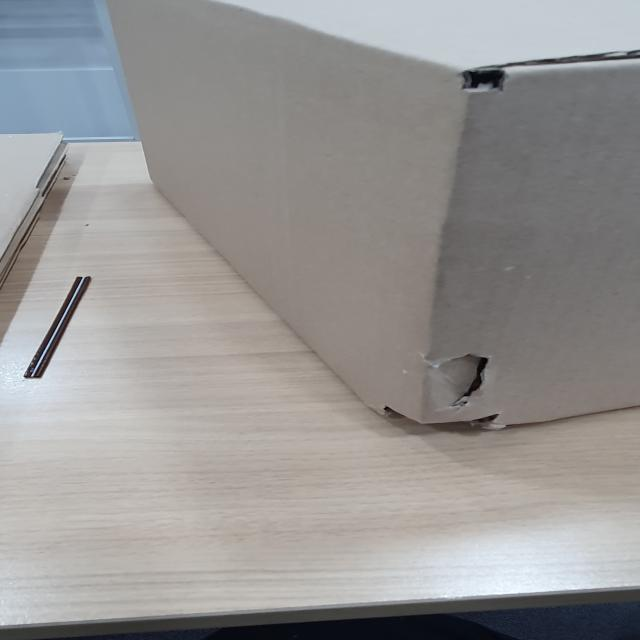hole: (375, 355, 513, 437), (451, 54, 518, 96)
